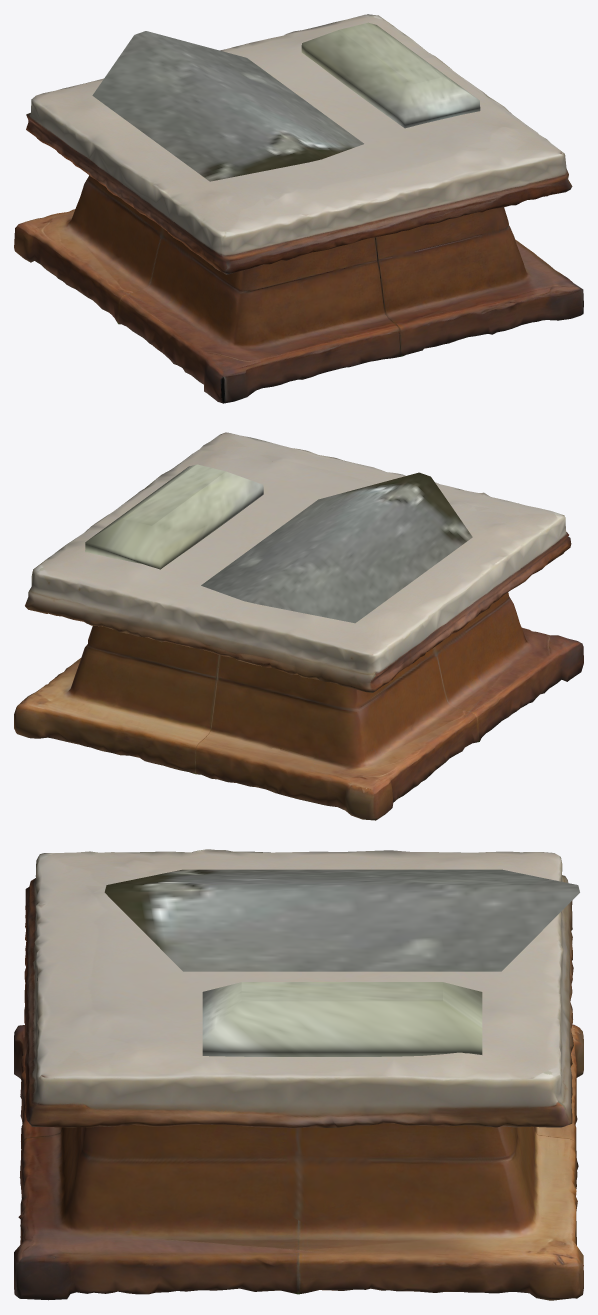
File: benda7.glb
3 views of the same model, one above another, from view 1: azimuth 30°, elevation 25°; view 2: azimuth 150°, elevation 25°; view 3: azimuth 270°, elevation 25° (orthographic). The views are drawn at different scales.
Visible parts, largest first — view 1: Mesh_0, Plane, Cube; view 2: Mesh_0, Plane, Cube; view 3: Mesh_0, Plane, Cube.
Part boxes in pixels (bbox=[...]): Mesh_0: bbox=[14, 14, 583, 403]; Plane: bbox=[92, 31, 363, 181]; Cube: bbox=[301, 22, 480, 128]; Mesh_0: bbox=[14, 432, 583, 820]; Plane: bbox=[201, 472, 472, 623]; Cube: bbox=[85, 464, 263, 569]; Mesh_0: bbox=[14, 849, 583, 1300]; Plane: bbox=[104, 869, 579, 971]; Cube: bbox=[202, 982, 482, 1056].
Size of the model in its own units: 2 by 1.02 by 2.
2 materials, 2 textured.
